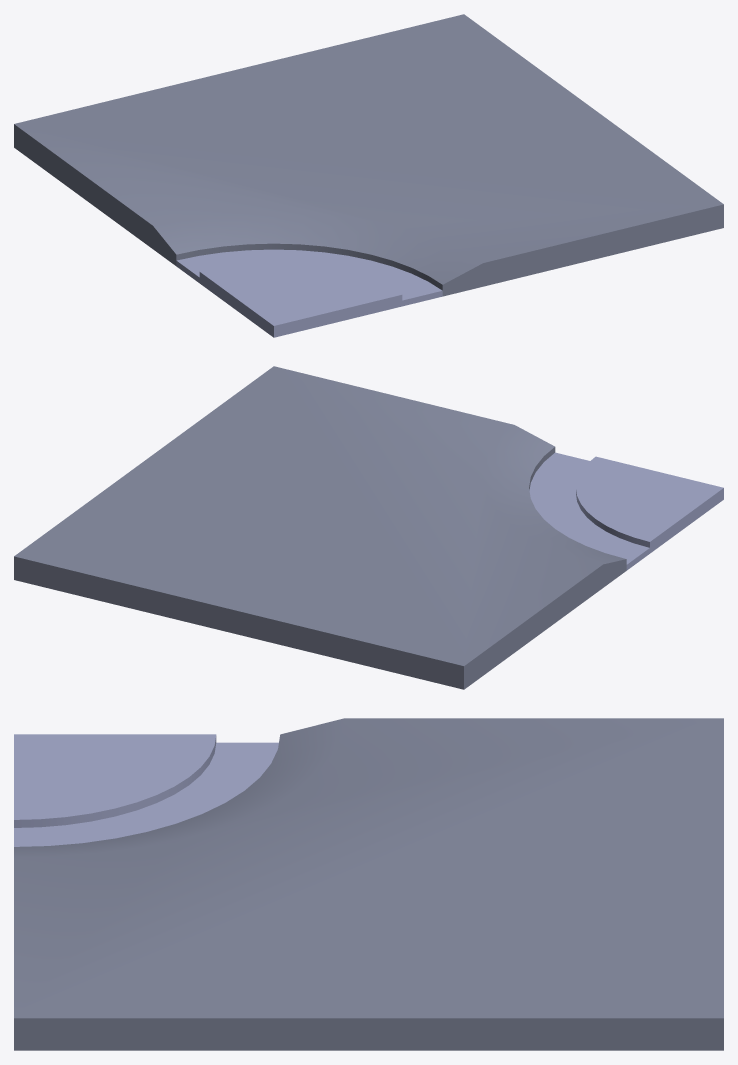
The model's file is kenney-fantasy-town-road-corner-inner.glb.
3 views of the same model, one above another, from view 1: azimuth 30°, elevation 25°; view 2: azimuth 150°, elevation 25°; view 3: azimuth 270°, elevation 25° (orthographic). The views are drawn at different scales.
Parts seen in each view (by area): view 1: road-corner-inner; view 2: road-corner-inner; view 3: road-corner-inner.
Part boxes in pixels (x1,y1,x2,y2): road-corner-inner: [14, 14, 723, 337]; road-corner-inner: [14, 366, 723, 689]; road-corner-inner: [14, 718, 723, 1050].
Bounding box in the file's own units: 1 × 0.0501 × 1.
1 material, 1 textured.
